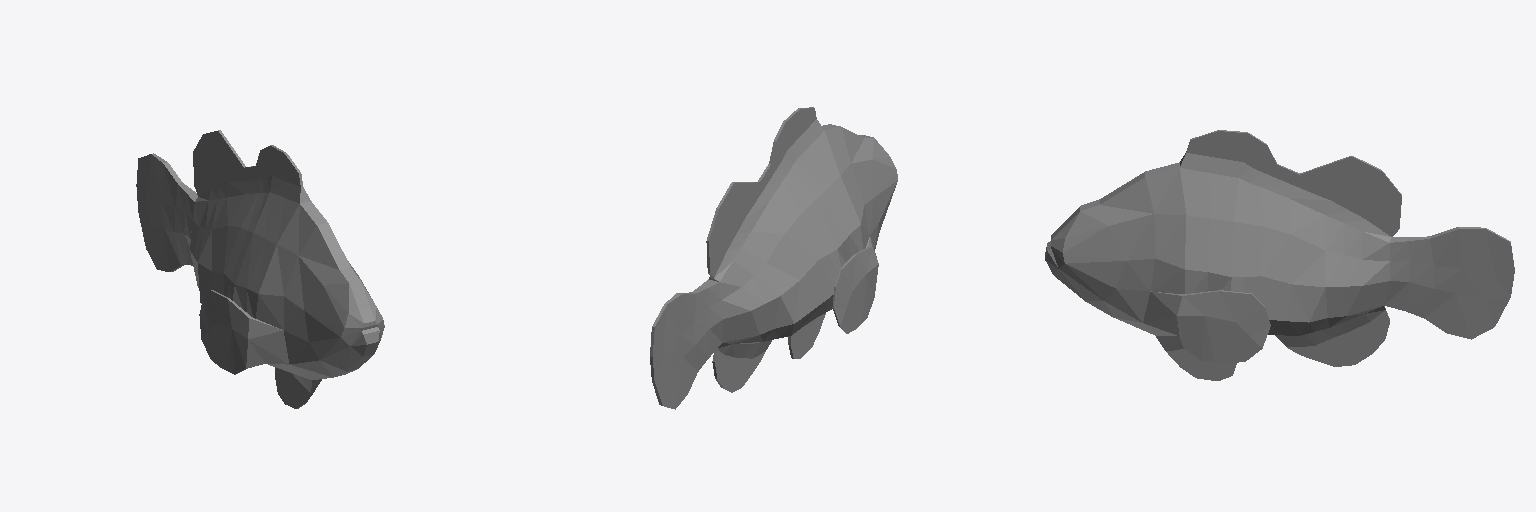
File: TropicalFish12.obj
3 views of the same model, side by side, from view 1: azimuth 30°, elevation 25°; view 2: azimuth 150°, elevation 25°; view 3: azimuth 270°, elevation 25° (orthographic).
Parts seen in each view (by area): view 1: TropicalFish12; view 2: TropicalFish12; view 3: TropicalFish12.
Part boxes in pixels (x1,y1,x2,y2): TropicalFish12: (136,130,384,408); TropicalFish12: (650,107,897,409); TropicalFish12: (1045,130,1514,380).
Size of the model in its own units: 2.1 by 3.97 by 6.76.